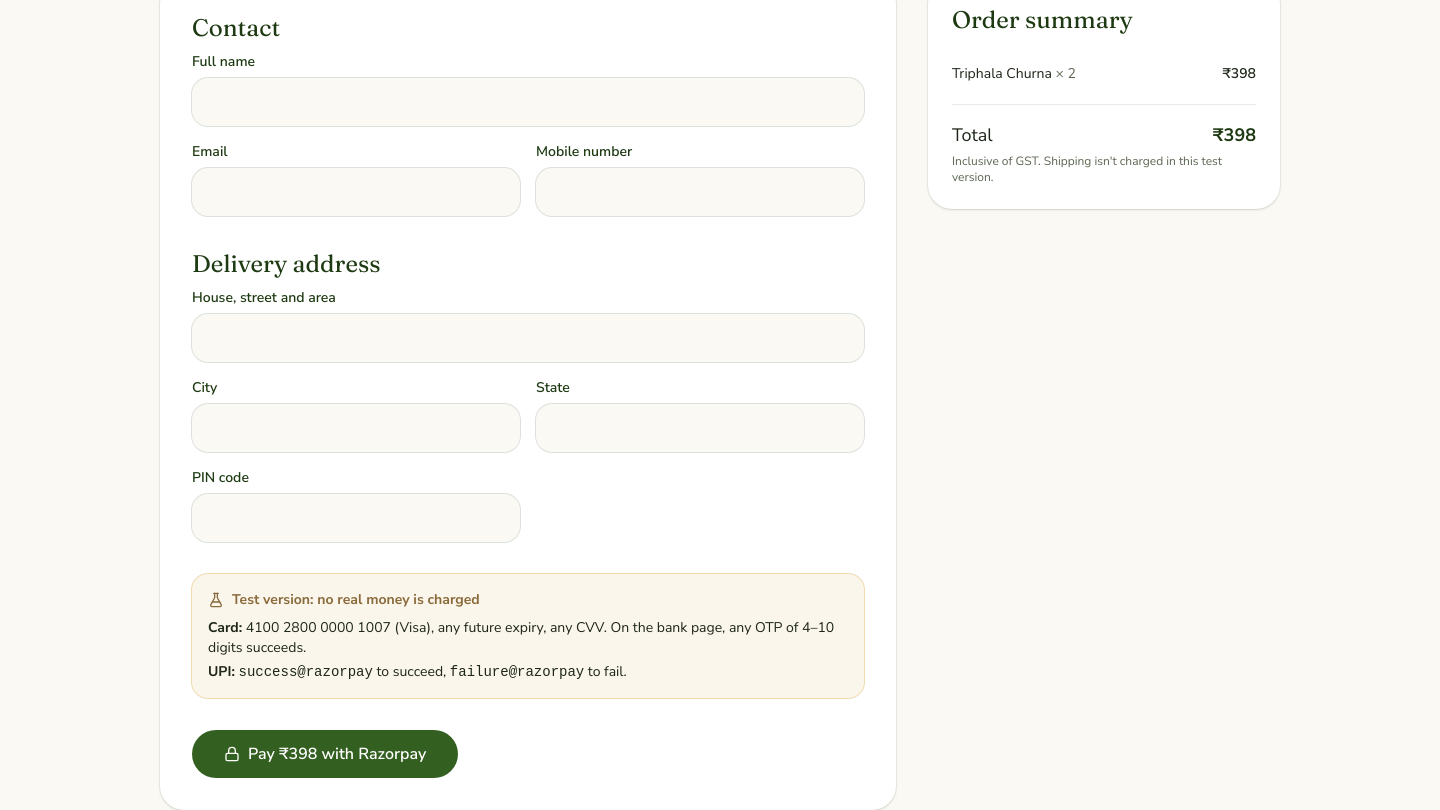
Test: Checkout page › shows the order total and test-mode details, and validates before paying
(page scrolled)
expect the text "Test version: no real money is charged" is shown: met, box [208,590,480,609]
expect the text "success@razorpay" is shown: met, box [238,664,373,680]
What coordinates should you click on to do the following:
click the button "Pay ₹398 with Razorpay"
I would click on:
 (325, 754)
Its box is [192,730,458,778].
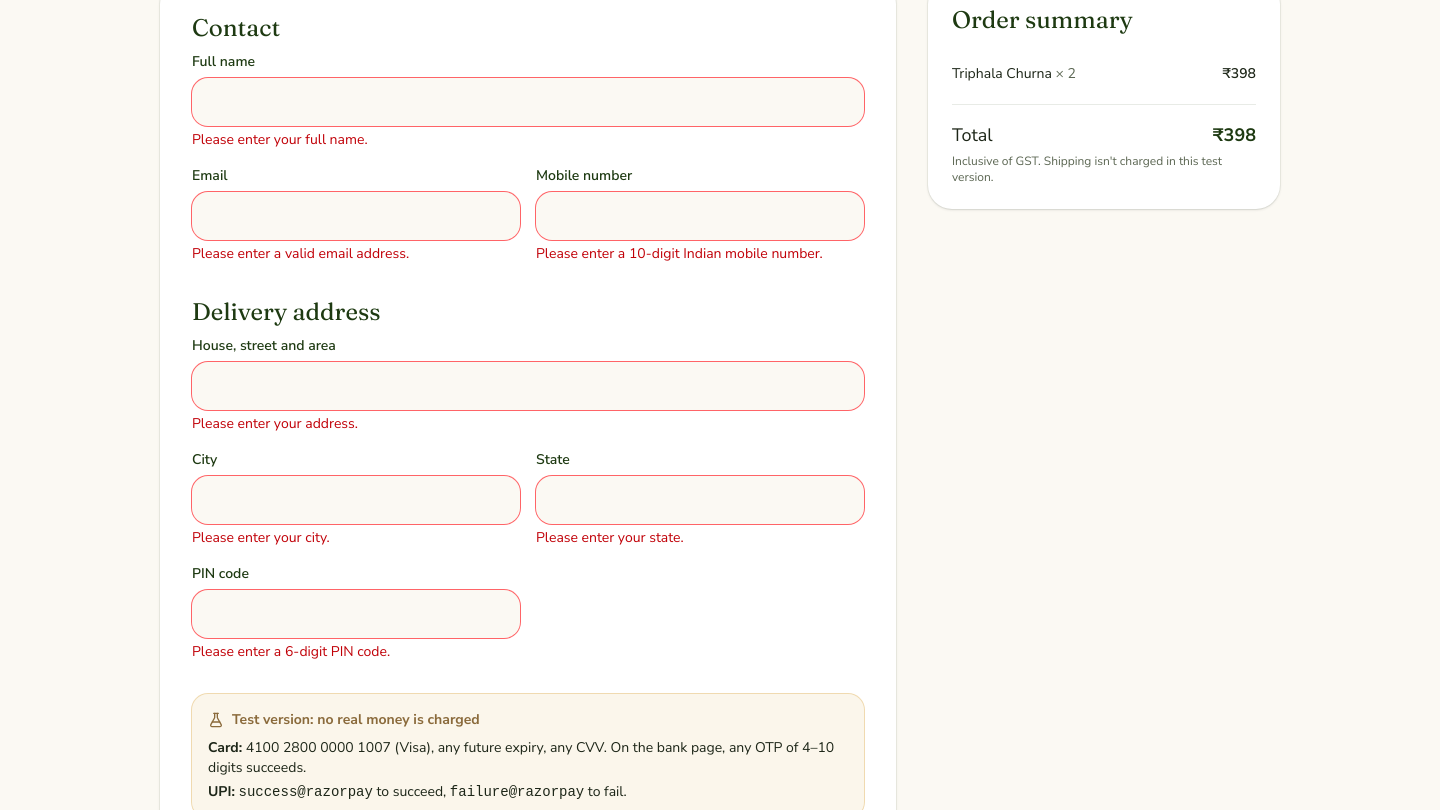
expect the text "Please enter your full name." is shown: met, box [192,130,368,149]
expect the text "Please enter a 6-digit PIN code." is shown: met, box [192,642,390,661]
